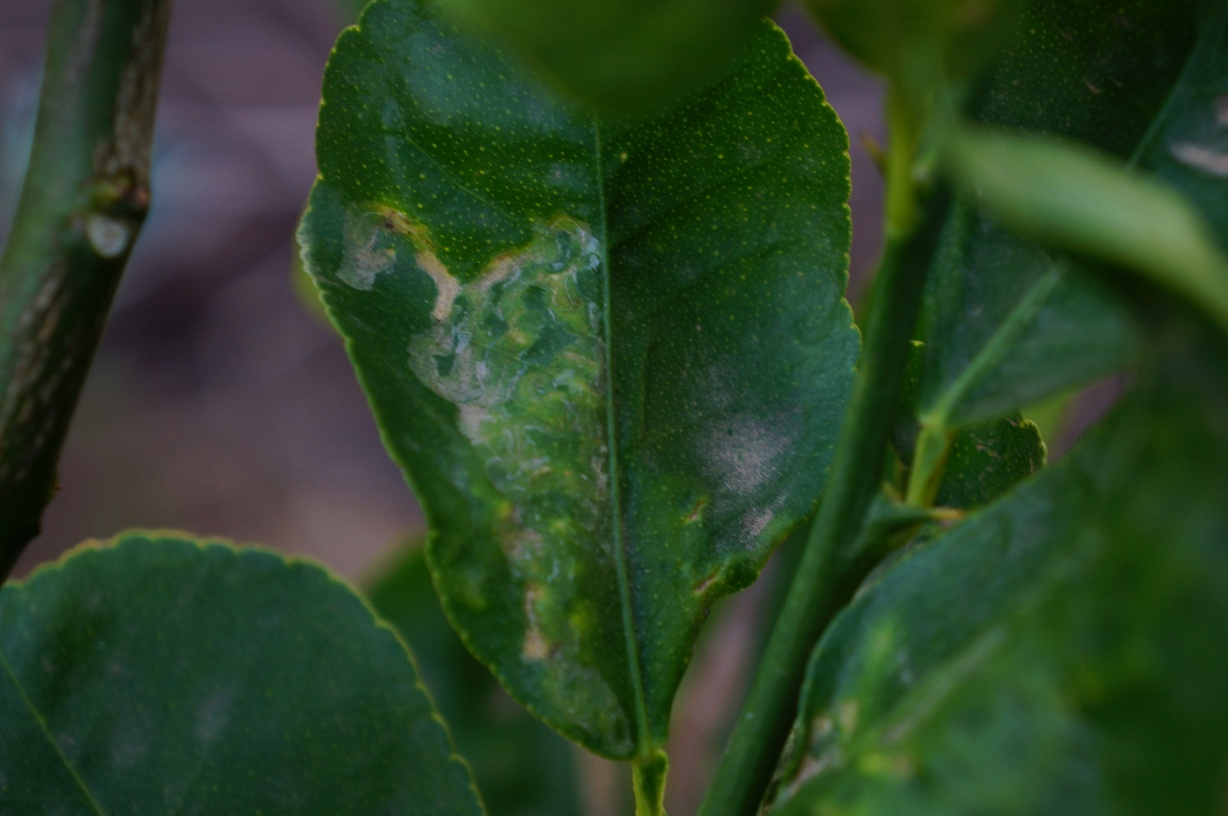damage: (331, 182, 654, 743)
